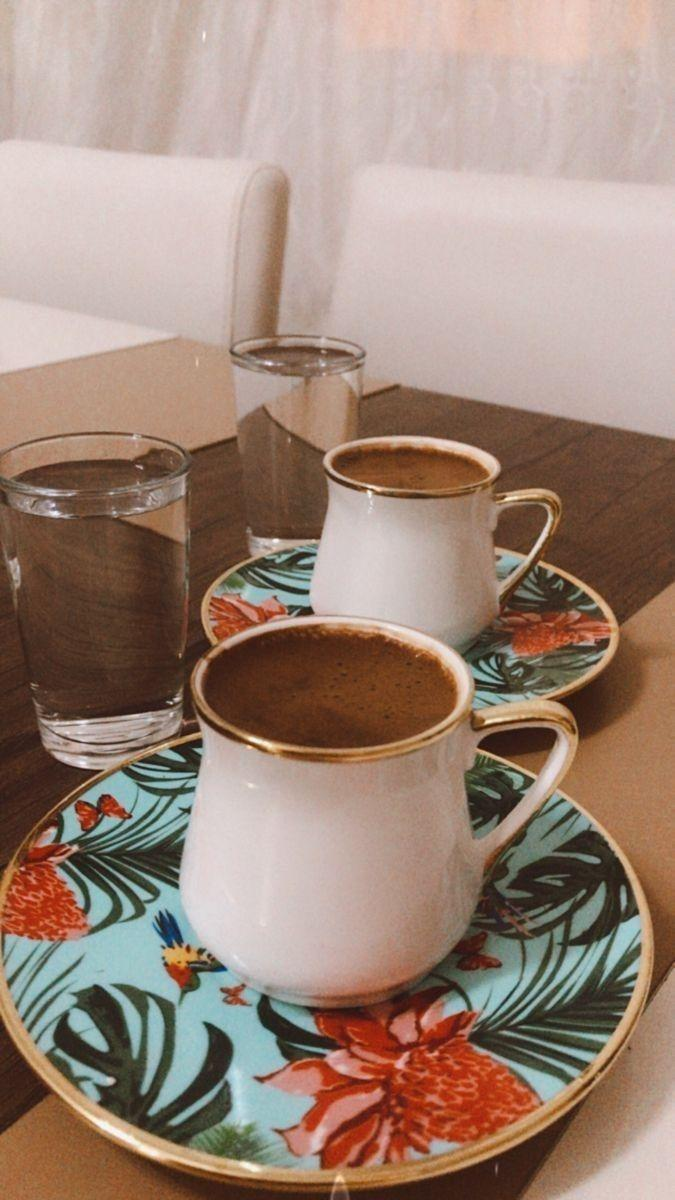cup-handle: (174, 611, 582, 1012), (309, 433, 568, 655)
glass-normal: (0, 428, 195, 770), (228, 332, 371, 560)
